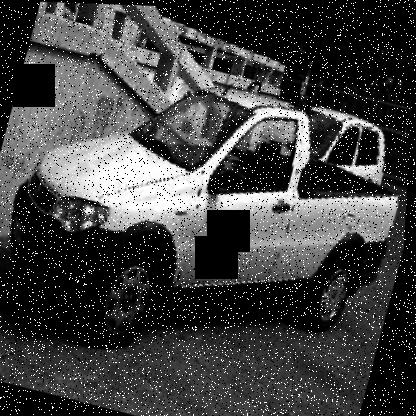not_emergency: (0, 14, 414, 414)
